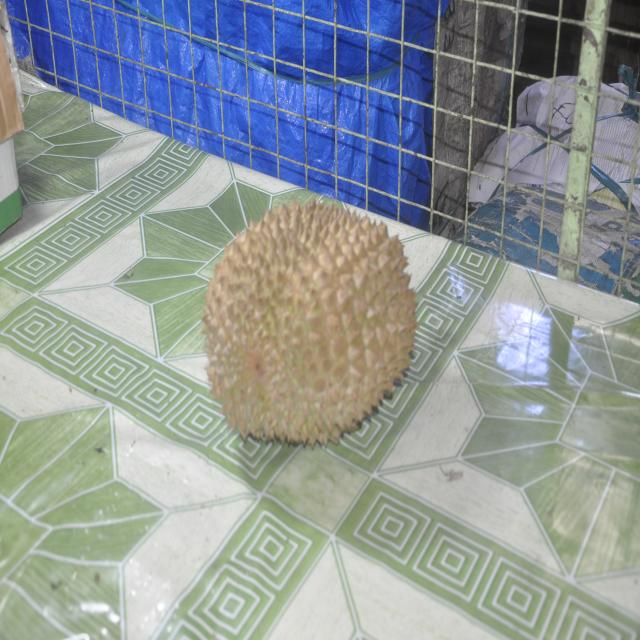mature: (202, 190, 417, 446)
